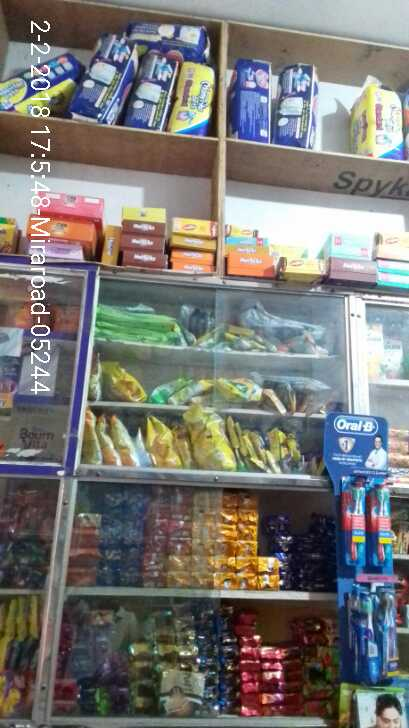oralb: (367, 478, 401, 570), (336, 478, 368, 571), (347, 586, 378, 682), (378, 587, 406, 678)
